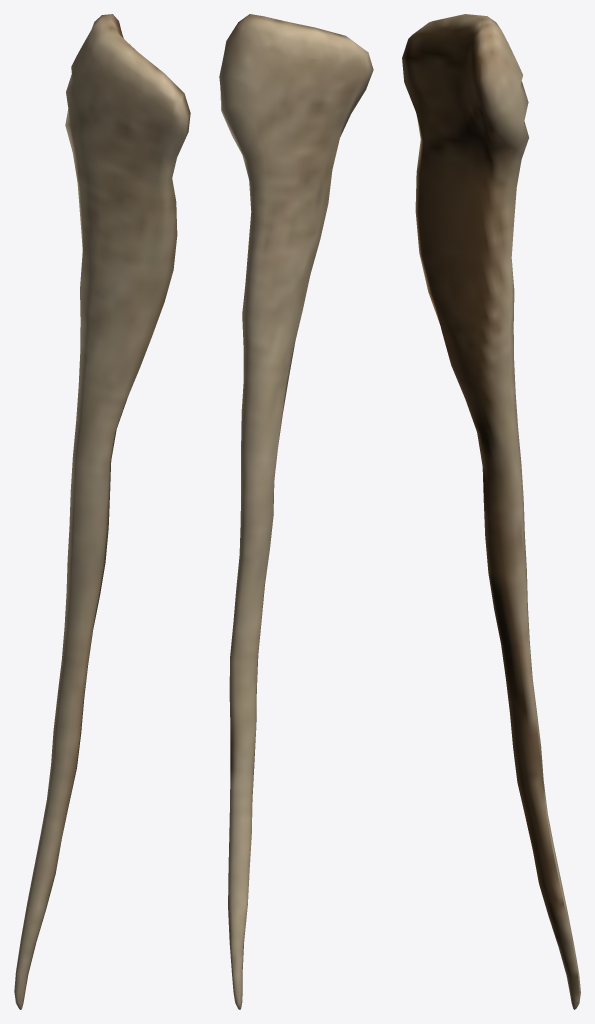
Rendered from Splint_Fourth_Metatarsal.glb.
3 renders of one model, left to right at view 1: azimuth 90°, elevation 25°; view 2: azimuth 150°, elevation 25°; view 3: azimuth 270°, elevation 25°, orthographic. The views are drawn at different scales.
Visible parts, largest first — view 1: R_Bck_Splint_Fourth_Metatarsal; view 2: R_Bck_Splint_Fourth_Metatarsal; view 3: R_Bck_Splint_Fourth_Metatarsal.
Boxes of the visible parts, left/top/right/bottom form: R_Bck_Splint_Fourth_Metatarsal: left=14, top=14, right=190, bottom=1009; R_Bck_Splint_Fourth_Metatarsal: left=219, top=14, right=373, bottom=1009; R_Bck_Splint_Fourth_Metatarsal: left=402, top=14, right=580, bottom=1009.
Size of the model in its own units: 0.0239 by 0.1964 by 0.032.
Materials: 1 (1 with a texture image).
